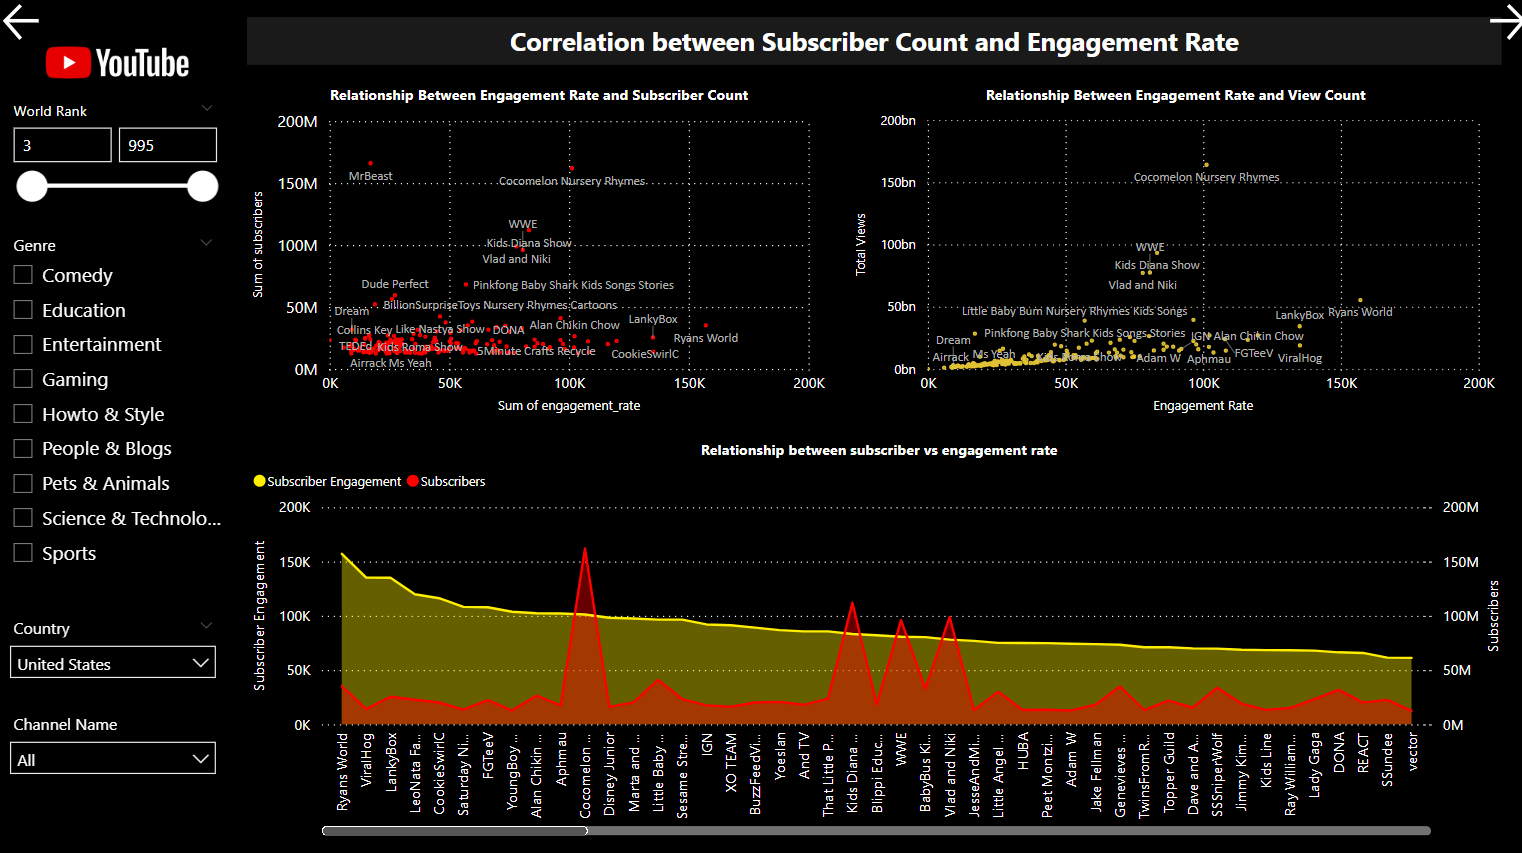

Layout of this report page (visuals, bound fields, positions):
{"tool":"powerbi","page":{"name":"page 2","canvas":[1280,720],"ordinal":1},"visuals":[{"type":"slicer","fields":{"Values":["influencers virtual_table.overall_rank"]},"box":[0,80,192,112],"z":0},{"type":"slicer","fields":{"Values":["influencers virtual_table.category"]},"box":[0,192,192,320],"z":1000},{"type":"slicer","fields":{"Values":["influencers virtual_table.country"]},"box":[0,512,192,80],"z":2000},{"type":"slicer","fields":{"Values":["influencers virtual_table.channel_name"]},"box":[0,592,192,128],"z":3000},{"type":"scatterChart","title":"Relationship Between Engagement Rate and Subscriber Count","fields":{"Category":["influencers virtual_table.channel_name"],"X":["influencers virtual_table.engagement_rate"],"Y":["influencers virtual_table.subscribers"]},"box":[208,72,488,280],"z":4000},{"type":"areaChart","title":"Relationship between subscriber vs engagement rate","fields":{"Category":["influencers virtual_table.channel_name"],"Y":["influencers virtual_table.engagement_rate"],"Y2":["influencers virtual_table.subscribers"]},"box":[208,368,1056,336],"z":5000},{"type":"scatterChart","title":"Relationship Between Engagement Rate and View Count","fields":{"Category":["influencers virtual_table.channel_name"],"X":["influencers virtual_table.engagement_rate"],"Y":["influencers virtual_table.total_views"]},"box":[712,72,544,280],"z":6000},{"type":"image","box":[8,24,192,56],"z":7000},{"type":"textbox","box":[208,16,1048,40],"z":8000},{"type":"actionButton","box":[1240,0,40,40],"z":9000},{"type":"actionButton","box":[0,0,48,40],"z":10000}]}

Visuals, with their boxes on the page's 1280x720 design canvas (x1, y1, x2, y2). These are canvas units, not pixel positions in the 1522x853 screenshot, which may show the page scaled, cropped or inside an application window:
slicer - influencers virtual_table.overall_rank: select_region(0, 80, 192, 192)
slicer - influencers virtual_table.category: select_region(0, 192, 192, 512)
slicer - influencers virtual_table.country: select_region(0, 512, 192, 592)
slicer - influencers virtual_table.channel_name: select_region(0, 592, 192, 720)
"Relationship Between Engagement Rate and Subscriber Count" scatterChart: select_region(208, 72, 696, 352)
"Relationship between subscriber vs engagement rate" areaChart: select_region(208, 368, 1264, 704)
"Relationship Between Engagement Rate and View Count" scatterChart: select_region(712, 72, 1256, 352)
image: select_region(8, 24, 200, 80)
textbox: select_region(208, 16, 1256, 56)
actionButton: select_region(1240, 0, 1280, 40)
actionButton: select_region(0, 0, 48, 40)
